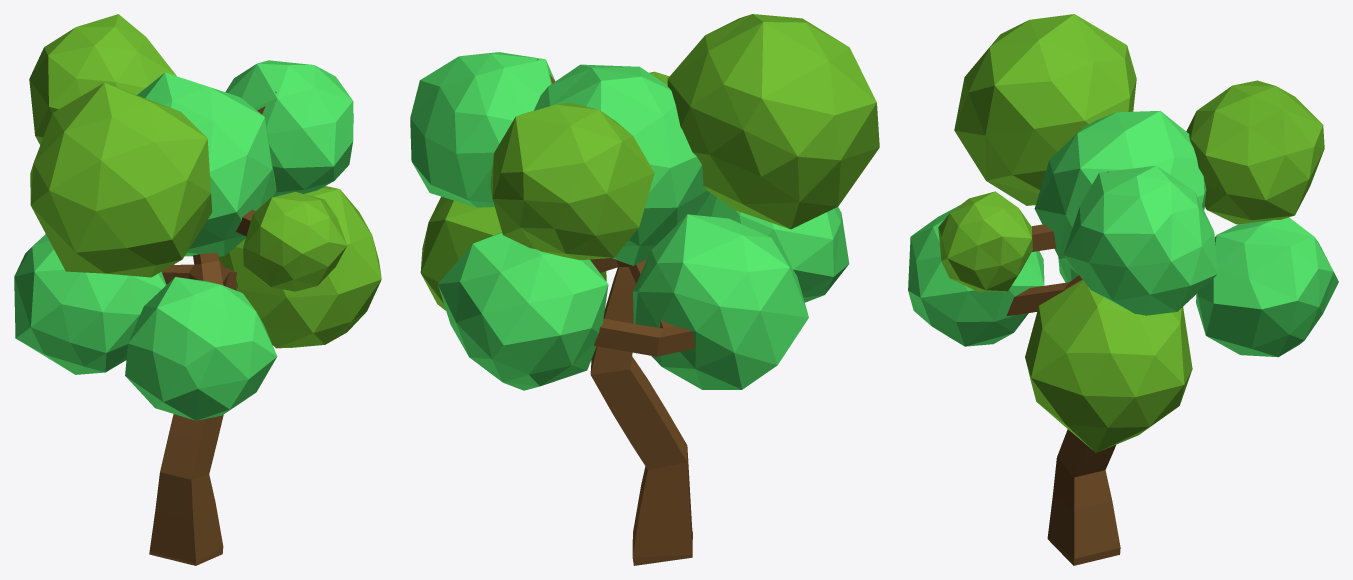
Rendered from Tree.fbx.
3 renders of one model, left to right at view 1: azimuth 30°, elevation 25°; view 2: azimuth 150°, elevation 25°; view 3: azimuth 270°, elevation 25°, orthographic. The views are drawn at different scales.
Parts seen in each view (by area): view 1: Icosphere.003, Icosphere, Icosphere.002, Icosphere.004, Icosphere.005, Icosphere.006, Cube, Icosphere.007, Icosphere.008; view 2: Icosphere.003, Icosphere.002, Icosphere.007, Icosphere.001, Cube, Icosphere.004, Icosphere.005, Icosphere, Icosphere.006; view 3: Icosphere.003, Icosphere.006, Icosphere.004, Icosphere.007, Icosphere.001, Icosphere.005, Cube, Icosphere, Icosphere.008.
Part boxes in pixels (x1,y1,x2,y2): Icosphere.003: [30, 82, 212, 277]; Icosphere: [125, 277, 277, 420]; Icosphere.002: [14, 234, 166, 374]; Icosphere.004: [225, 60, 353, 197]; Icosphere.005: [137, 72, 276, 256]; Icosphere.006: [218, 186, 381, 348]; Cube: [149, 91, 276, 565]; Icosphere.007: [29, 14, 176, 144]; Icosphere.008: [243, 192, 347, 291]; Icosphere.003: [667, 14, 879, 229]; Icosphere.002: [633, 214, 808, 389]; Icosphere.007: [490, 102, 654, 260]; Icosphere.001: [438, 232, 608, 390]; Cube: [536, 59, 695, 565]; Icosphere.004: [410, 52, 555, 207]; Icosphere.005: [534, 64, 710, 265]; Icosphere: [696, 193, 849, 302]; Icosphere.006: [420, 196, 606, 310]; Icosphere.003: [954, 14, 1136, 205]; Icosphere.006: [1025, 280, 1192, 452]; Icosphere.004: [1063, 165, 1217, 315]; Icosphere.007: [1186, 80, 1324, 224]; Icosphere.001: [1196, 217, 1338, 357]; Icosphere.005: [1034, 110, 1206, 273]; Cube: [1006, 171, 1120, 565]; Icosphere: [908, 205, 1044, 346]; Icosphere.008: [938, 191, 1032, 291].
Bounding box in the file's own units: 569 × 759 × 598.
